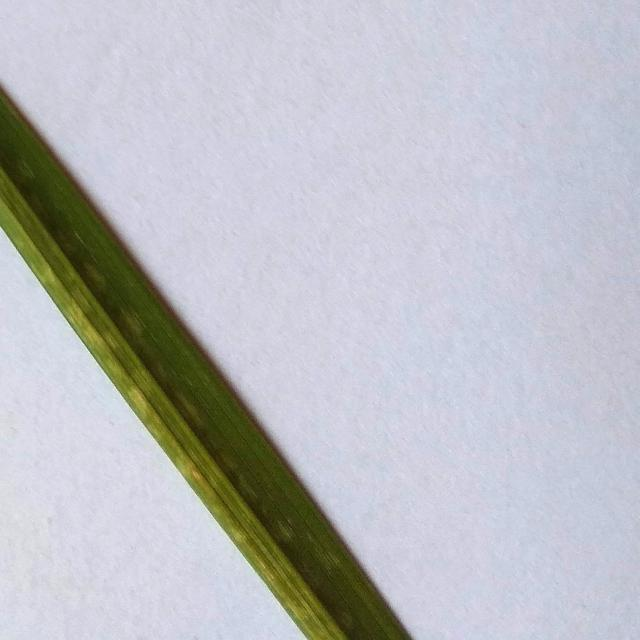Rice_Healthy: (0, 87, 412, 640)
